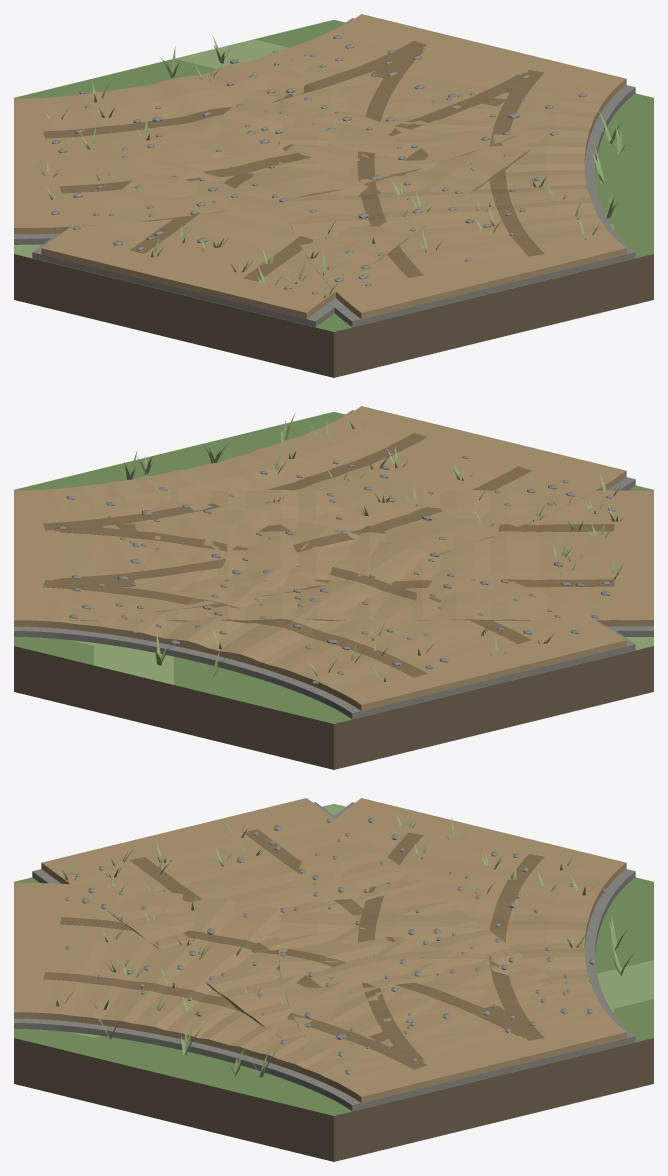
Rendered from dirt-road.glb.
3 renders of one model, top to bottom at view 1: azimuth 30°, elevation 25°; view 2: azimuth 150°, elevation 25°; view 3: azimuth 270°, elevation 25°, orthographic.
Visible parts, largest first — view 1: RouteRoot_mesh, RouteBuild.118_mesh, RouteBuild.117_mesh, RouteBuild.009_mesh, RouteBuild.010_mesh, RouteBuild.116_mesh, RouteBuild.065_mesh, RouteBuild.064_mesh, RouteBuild.066_mesh, RouteBuild.119_mesh, RouteBuild.012_mesh, RouteBuild.011_mesh (+21 smaller); view 2: RouteRoot_mesh, RouteBuild.118_mesh, RouteBuild.117_mesh, RouteBuild.064_mesh, RouteBuild.009_mesh, RouteBuild.065_mesh, RouteBuild.010_mesh, RouteBuild.116_mesh, RouteBuild.066_mesh, RouteBuild.119_mesh, RouteBuild.012_mesh, RouteBuild.011_mesh (+25 smaller); view 3: RouteRoot_mesh, RouteBuild.118_mesh, RouteBuild.117_mesh, RouteBuild.009_mesh, RouteBuild.010_mesh, RouteBuild.116_mesh, RouteBuild.065_mesh, RouteBuild.064_mesh, RouteBuild.119_mesh, RouteBuild.066_mesh, RouteBuild.012_mesh, RouteBuild.011_mesh (+24 smaller).
Part boxes in pixels (x1,y1,x2,y2): RouteRoot_mesh: (14, 20, 653, 377); RouteBuild.118_mesh: (297, 22, 625, 264); RouteBuild.117_mesh: (280, 64, 626, 319); RouteBuild.009_mesh: (41, 181, 318, 319); RouteBuild.010_mesh: (132, 144, 371, 314); RouteBuild.116_mesh: (262, 134, 493, 296); RouteBuild.065_mesh: (44, 87, 249, 214); RouteBuild.064_mesh: (14, 98, 191, 225); RouteBuild.066_mesh: (133, 73, 361, 199); RouteBuild.119_mesh: (357, 22, 598, 180); RouteBuild.012_mesh: (237, 70, 483, 228); RouteBuild.011_mesh: (184, 104, 426, 264); RouteRoot_mesh: (14, 412, 653, 769); RouteBuild.118_mesh: (36, 406, 427, 627); RouteBuild.117_mesh: (147, 422, 493, 621); RouteBuild.064_mesh: (344, 581, 626, 711); RouteBuild.009_mesh: (457, 490, 653, 620); RouteBuild.065_mesh: (279, 570, 505, 705); RouteBuild.010_mesh: (368, 490, 627, 620); RouteBuild.116_mesh: (282, 438, 563, 594); RouteBuild.066_mesh: (208, 536, 429, 676); RouteBuild.119_mesh: (14, 456, 260, 614); RouteBuild.012_mesh: (164, 489, 369, 622); RouteBuild.011_mesh: (245, 490, 523, 623); RouteRoot_mesh: (14, 804, 653, 1161); RouteBuild.118_mesh: (14, 978, 616, 1032); RouteBuild.117_mesh: (14, 939, 552, 994); RouteBuild.009_mesh: (41, 826, 396, 875); RouteBuild.010_mesh: (47, 863, 447, 914); RouteBuild.116_mesh: (14, 899, 423, 955); RouteBuild.065_mesh: (290, 866, 619, 912); RouteBuild.064_mesh: (298, 825, 626, 873); RouteBuild.119_mesh: (143, 1017, 603, 1089); RouteBuild.066_mesh: (279, 905, 592, 950); RouteBuild.012_mesh: (157, 940, 550, 992); RouteBuild.011_mesh: (107, 902, 501, 952).
Size of the model in its own units: 3.5 by 0.3891 by 3.03.
